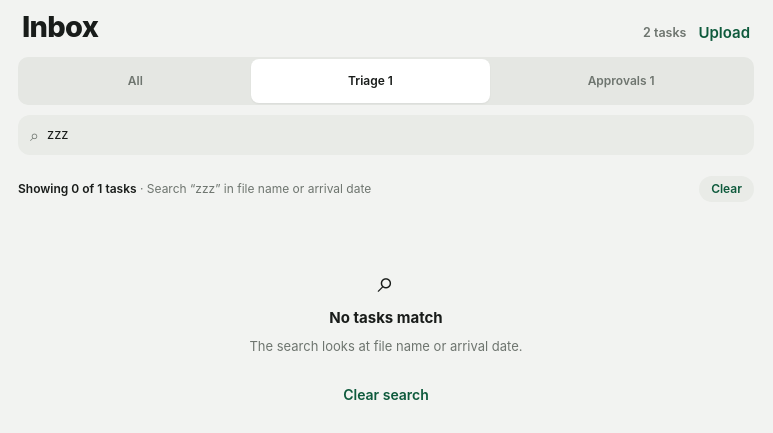
Scenario: InboxScreen search (issue #278) › no hits on a non-empty queue is "No tasks match", never Inbox zero; Clear keeps seg and state
Expected: the text "No tasks match" is shown, left=329, top=306, right=443, bottom=329
Click the button "Clear search": (386, 394) left=343, top=372, right=429, bottom=416
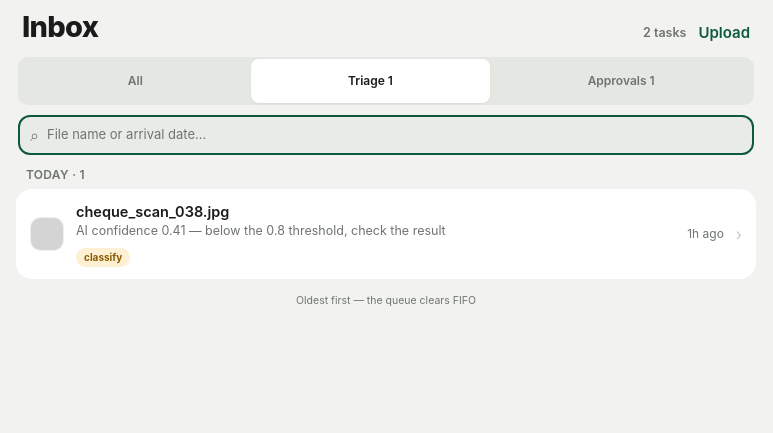
Now the text "cheque_scan_038.jpg" is shown, box left=76, top=202, right=229, bottom=220
